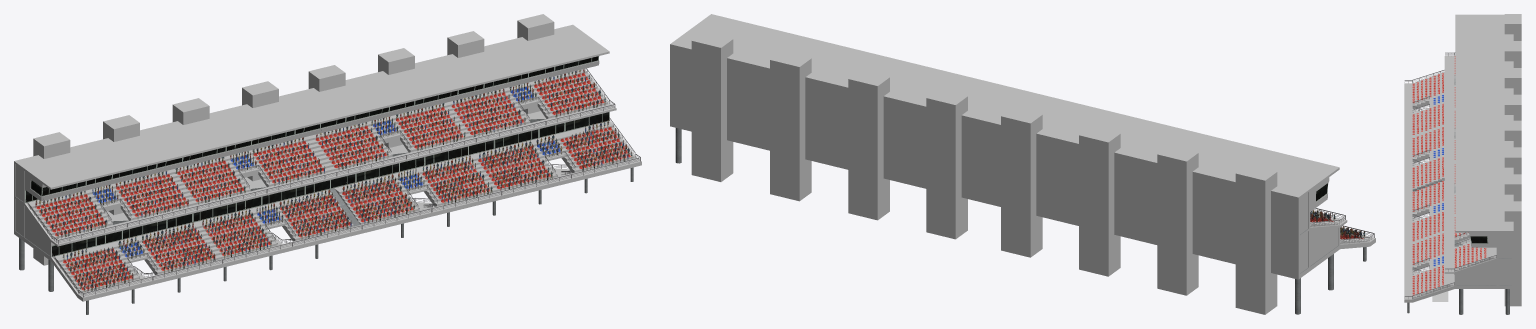
Rendered from GrandStand-01.fbx.
3 renders of one model, left to right at view 1: azimuth 30°, elevation 25°; view 2: azimuth 150°, elevation 25°; view 3: azimuth 270°, elevation 25°, orthographic. The views are drawn at different scales.
Visible parts, largest first — view 1: GrandStand-01, Audience; view 2: GrandStand-01; view 3: GrandStand-01.
Boxes of the visible parts, x1,y1,x2,y2 form: GrandStand-01: (14, 14, 641, 314); Audience: (35, 69, 632, 291); GrandStand-01: (670, 14, 1375, 314); GrandStand-01: (1404, 14, 1521, 314).
Size of the model in its own units: 12180 by 2487 by 2796.
